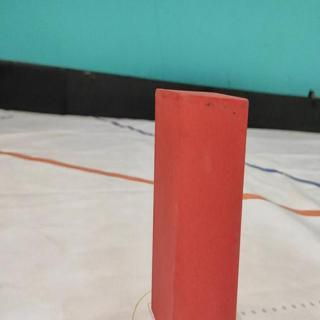redbox: (151, 89, 248, 320)
